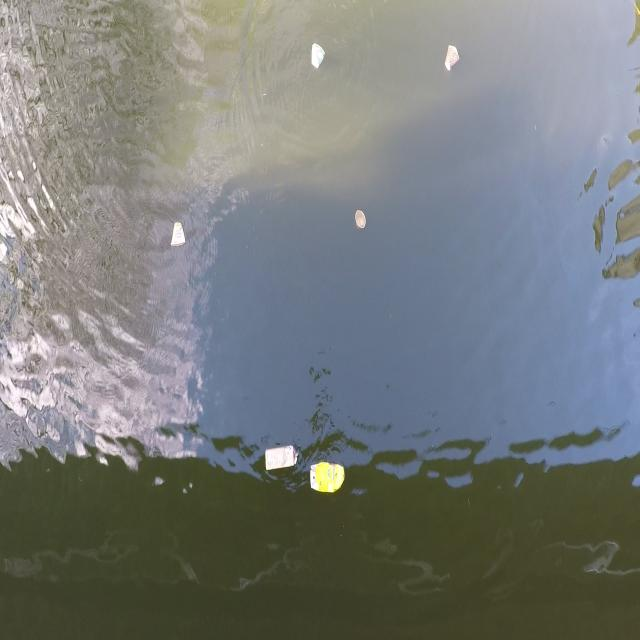Non plastique: (259, 440, 302, 475), (438, 42, 466, 78), (349, 205, 374, 241), (167, 216, 190, 254), (305, 41, 328, 77)
